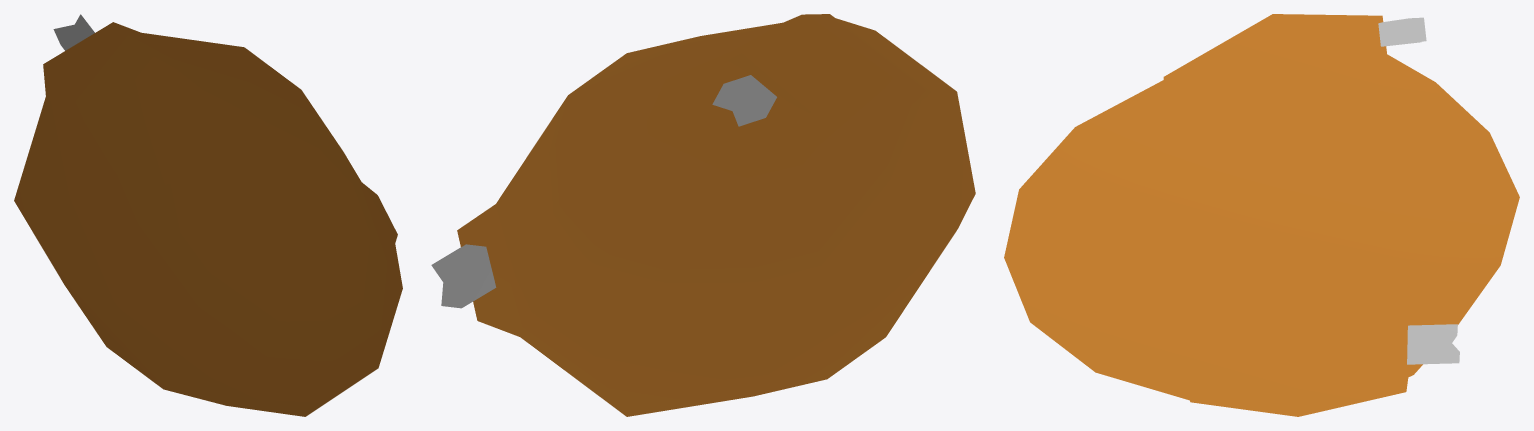
The model's file is chicken.fbx.
The picture shows the model from 3 angles, left to right: view 1: azimuth 30°, elevation 25°; view 2: azimuth 150°, elevation 25°; view 3: azimuth 270°, elevation 25°; orthographic projection. The views are drawn at different scales.
Parts seen in each view (by area): view 1: Cube.071; view 2: Cube.071; view 3: Cube.071.
Boxes of the visible parts, box(x1,y1,x2,y2) form: Cube.071: box(14, 14, 402, 416); Cube.071: box(431, 14, 975, 416); Cube.071: box(1004, 14, 1519, 416).
Size of the model in its own units: 25.62 by 24.73 by 33.61.
